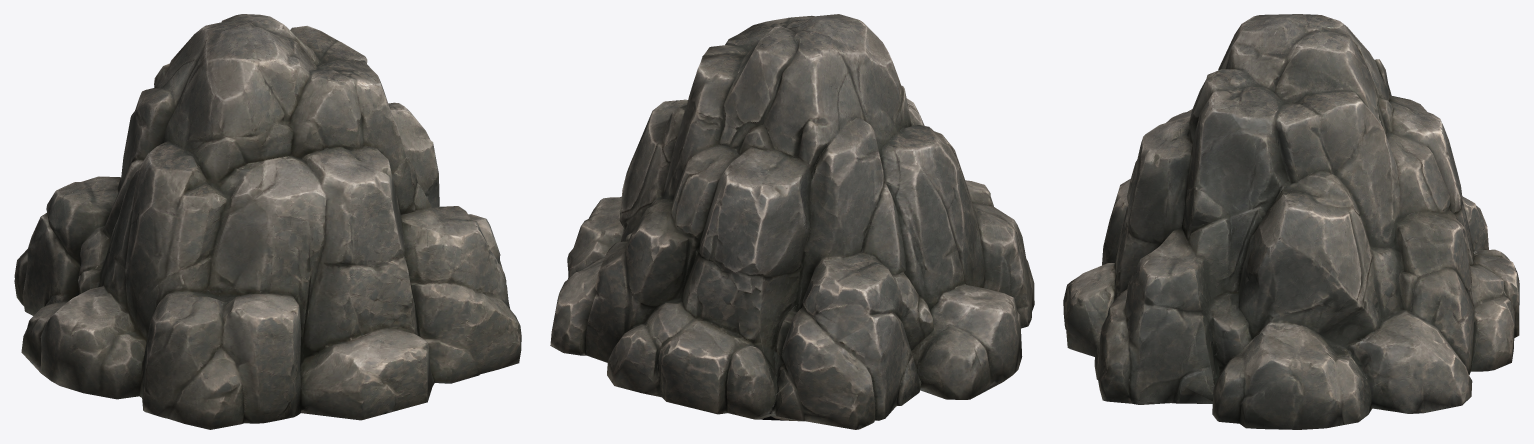
File: weathered-rock-pile-under-20k.glb
3 renders of one model, left to right at view 1: azimuth 30°, elevation 25°; view 2: azimuth 150°, elevation 25°; view 3: azimuth 270°, elevation 25°, orthographic. The views are drawn at different scales.
Visible parts, largest first — view 1: Mesh1.0; view 2: Mesh1.0; view 3: Mesh1.0.
Part boxes in pixels (x1,y1,x2,y2): Mesh1.0: (14,14,521,429); Mesh1.0: (550,14,1034,429); Mesh1.0: (1063,14,1519,429).
Bounding box in the file's own units: 1.91 × 1.3 × 1.79.
1 material, 1 textured.
